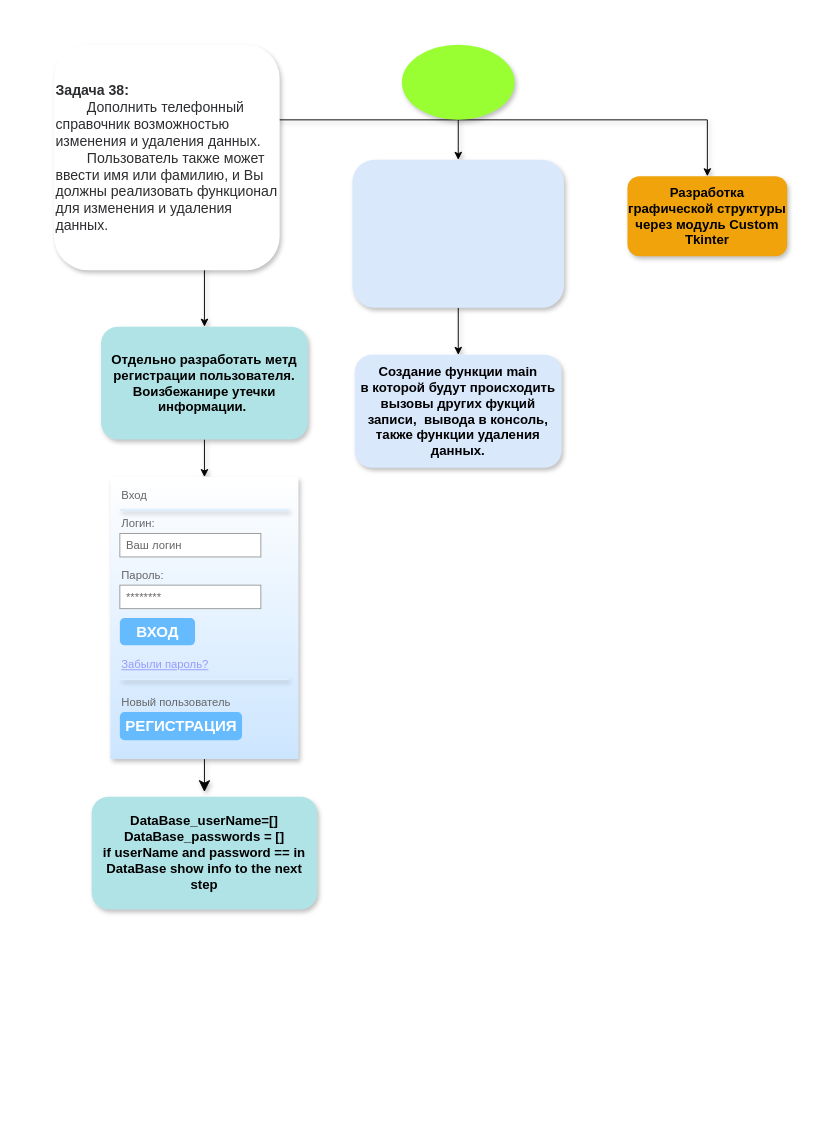
Some shapes in this 822 by 1122 pixel diagram are drawn without their labels. The shapes that lost their labels are listed below. From the top down, each one's centre as x and y in pixels, then its label:
At pixel 459 83: "START".
At pixel 458 235: "Ввод данных: Фамил Имя Телефое Описание".
